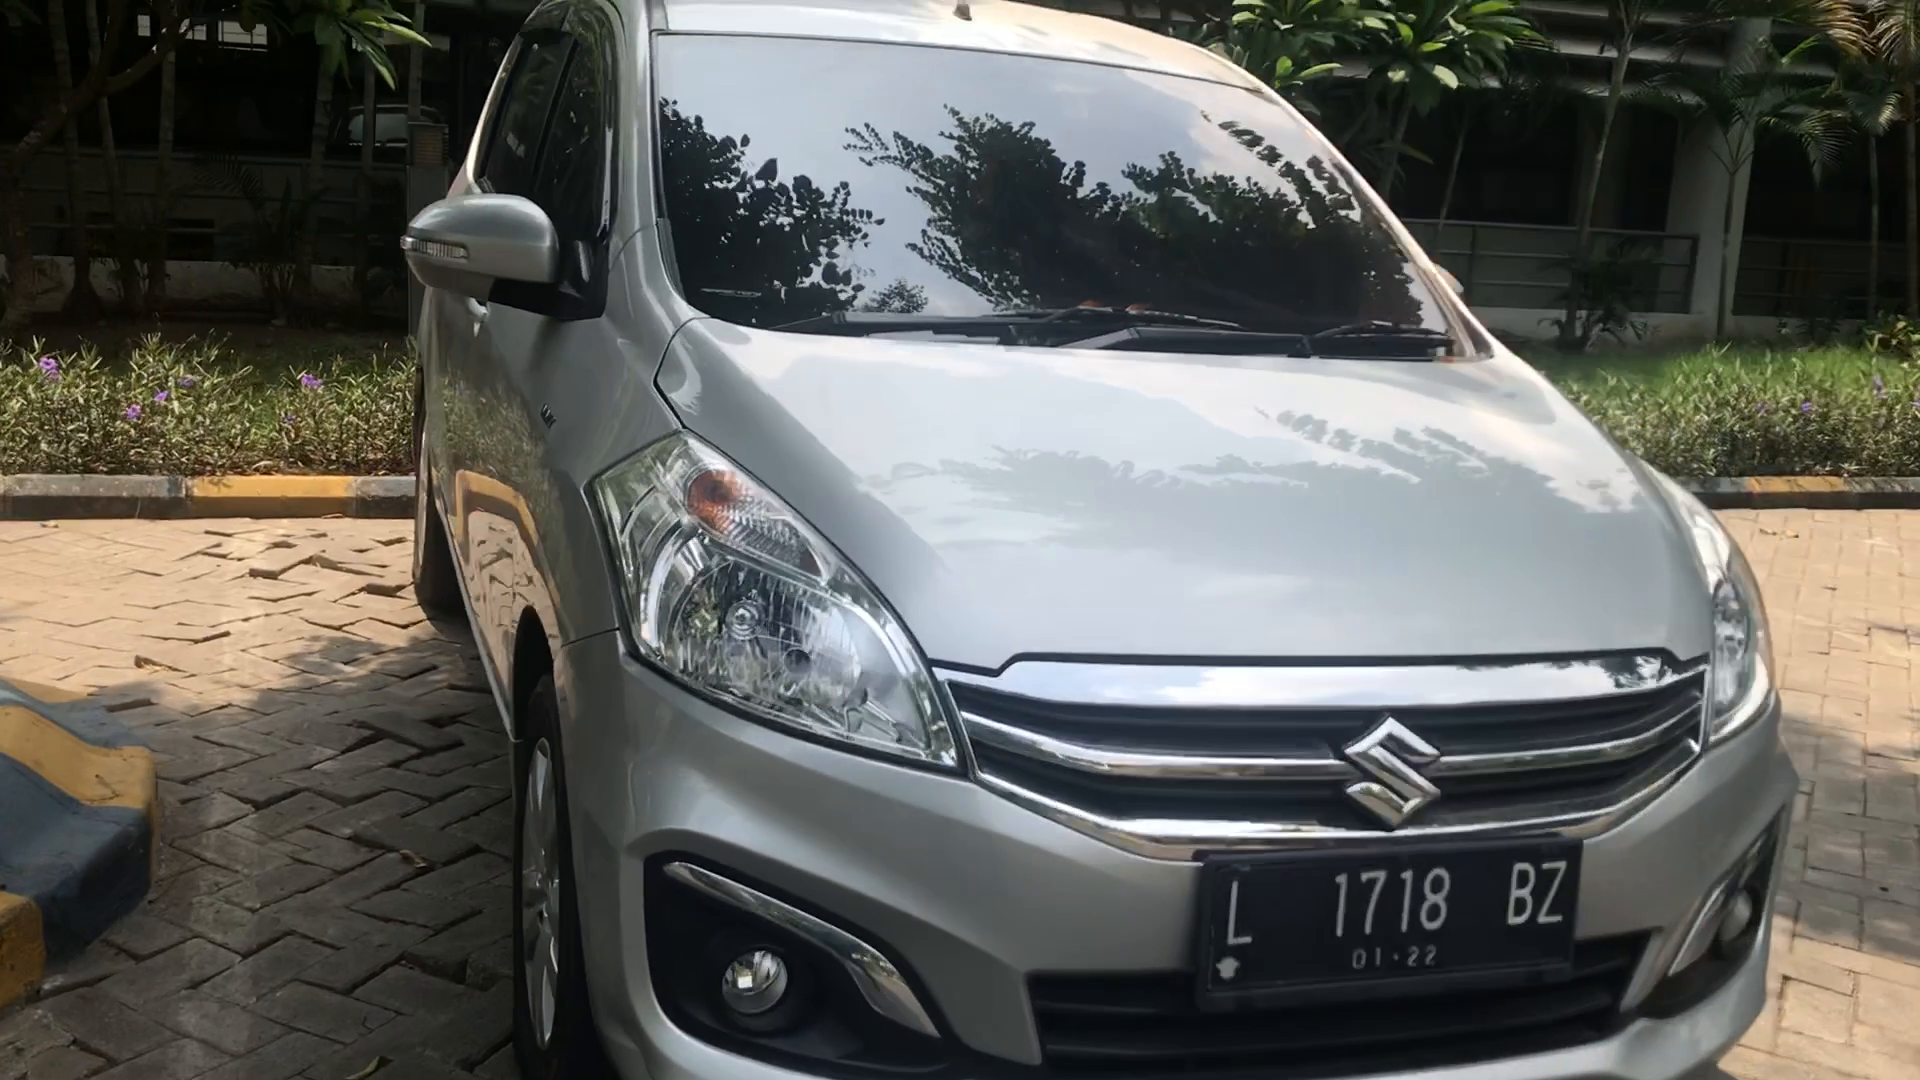plate: (1202, 855, 1577, 987)
